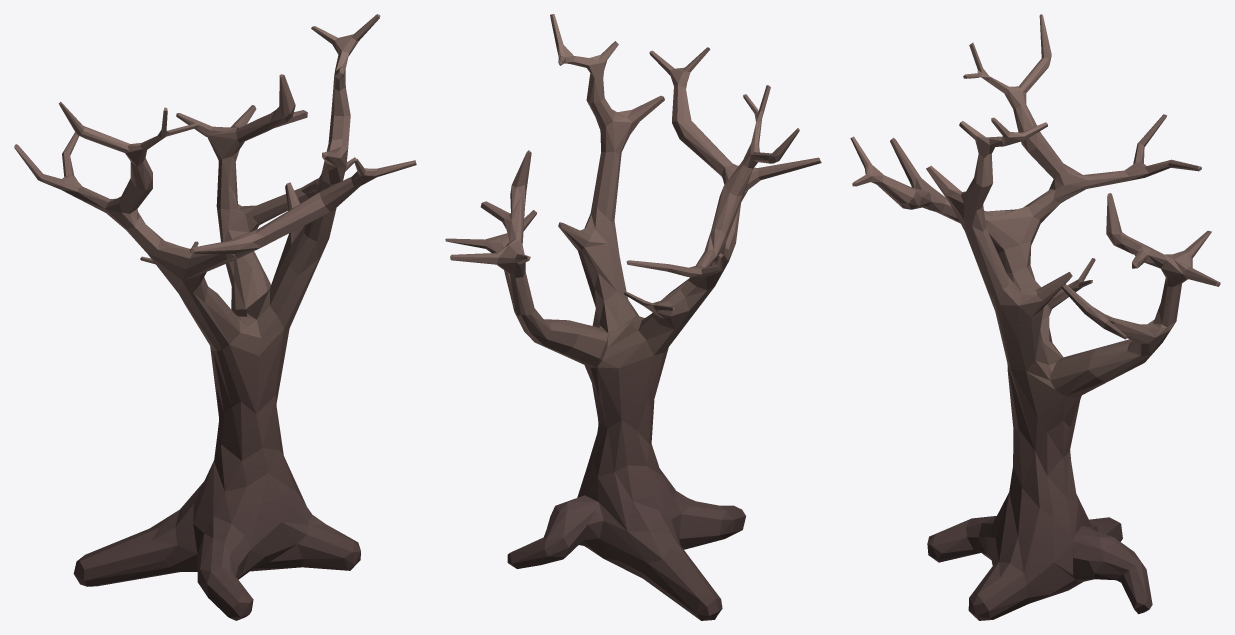
Rendered from tree4.glb.
3 views of the same model, side by side, from view 1: azimuth 30°, elevation 25°; view 2: azimuth 150°, elevation 25°; view 3: azimuth 270°, elevation 25° (orthographic). The views are drawn at different scales.
Parts seen in each view (by area): view 1: tree4; view 2: tree4; view 3: tree4.
Boxes of the visible parts, left/top/right/bottom form: tree4: left=14, top=14, right=416, bottom=620; tree4: left=445, top=14, right=821, bottom=620; tree4: left=850, top=14, right=1220, bottom=620.
Bounding box in the file's own units: 3.69 × 5.78 × 3.62.
Materials: 1 (1 with a texture image).
